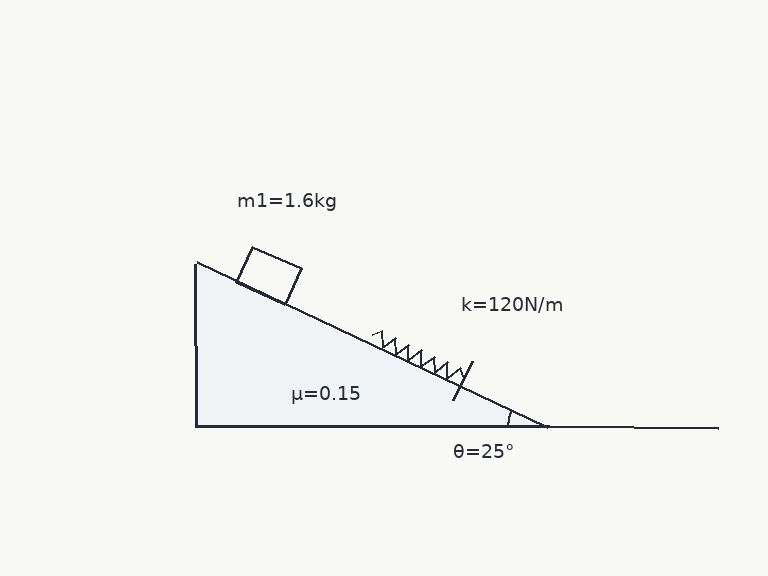block: (234, 244, 303, 306)
ramp: (194, 261, 550, 429)
spring: (370, 330, 466, 380)
